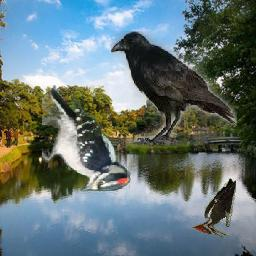Crow: (111, 31, 237, 145)
Woodpecker: (43, 86, 132, 195), (192, 178, 237, 238)
